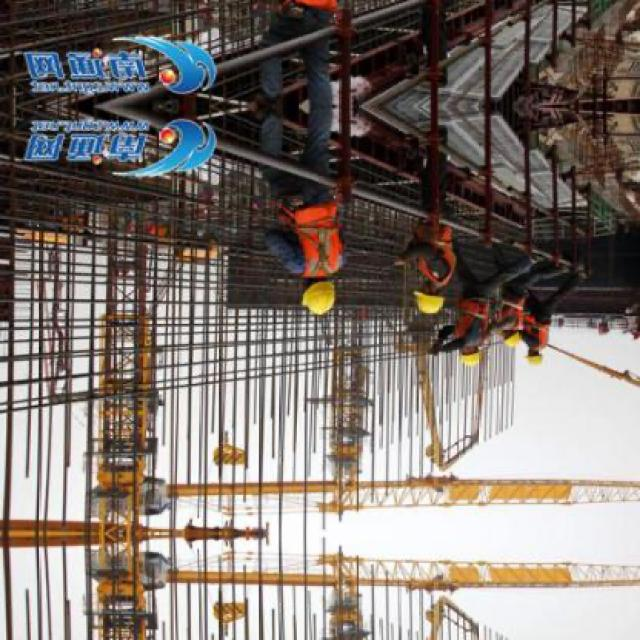con casco: (288, 260, 349, 320), (411, 273, 468, 329), (521, 338, 553, 371)
